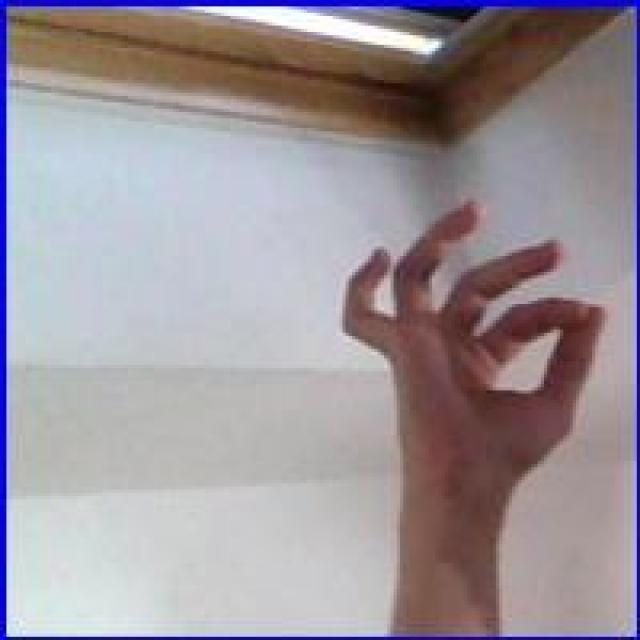F: (334, 187, 610, 504)
